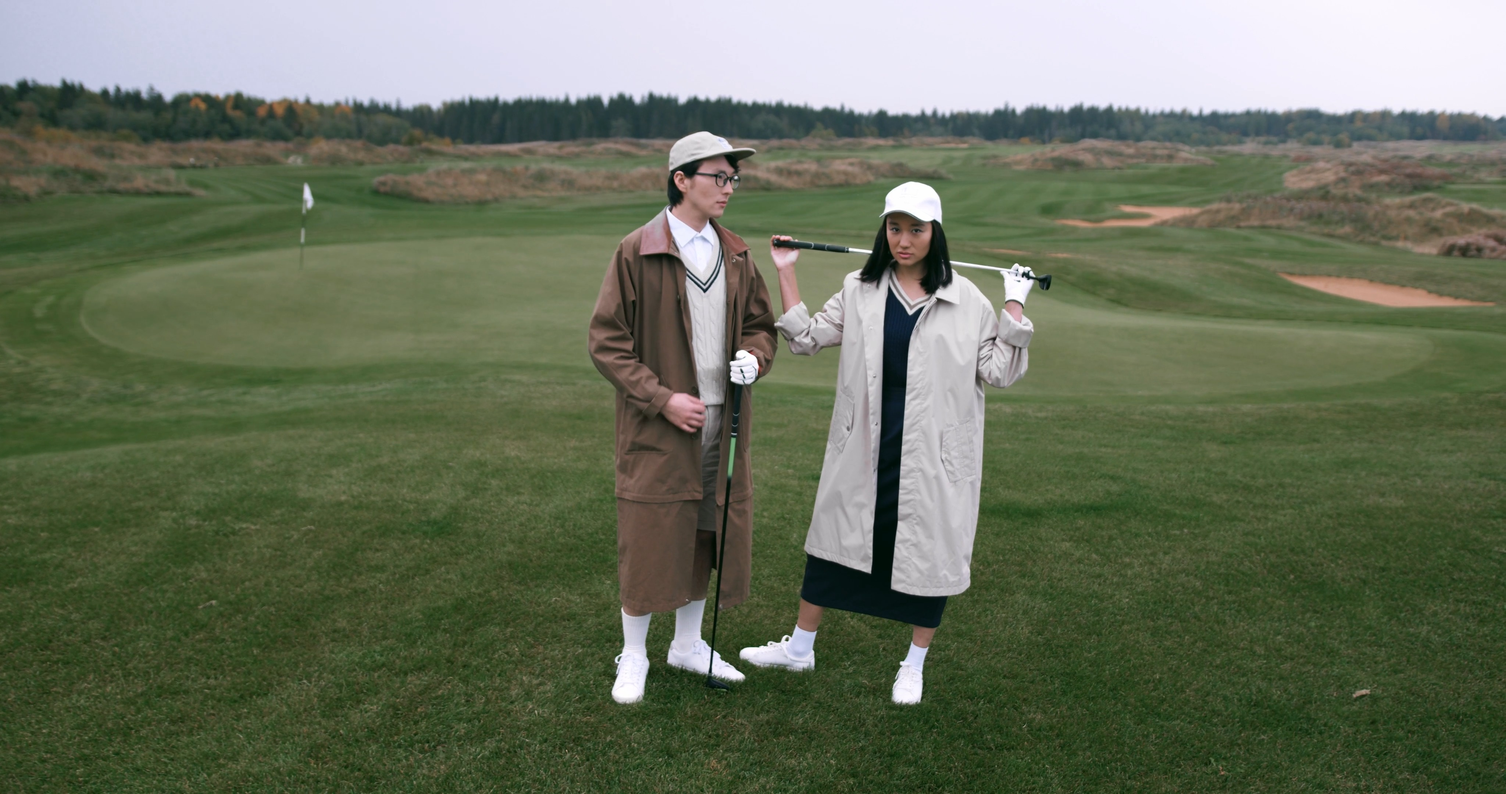No-gloves: (656, 379, 716, 438), (759, 224, 808, 276)
gloves: (993, 250, 1051, 311), (728, 344, 765, 403)
